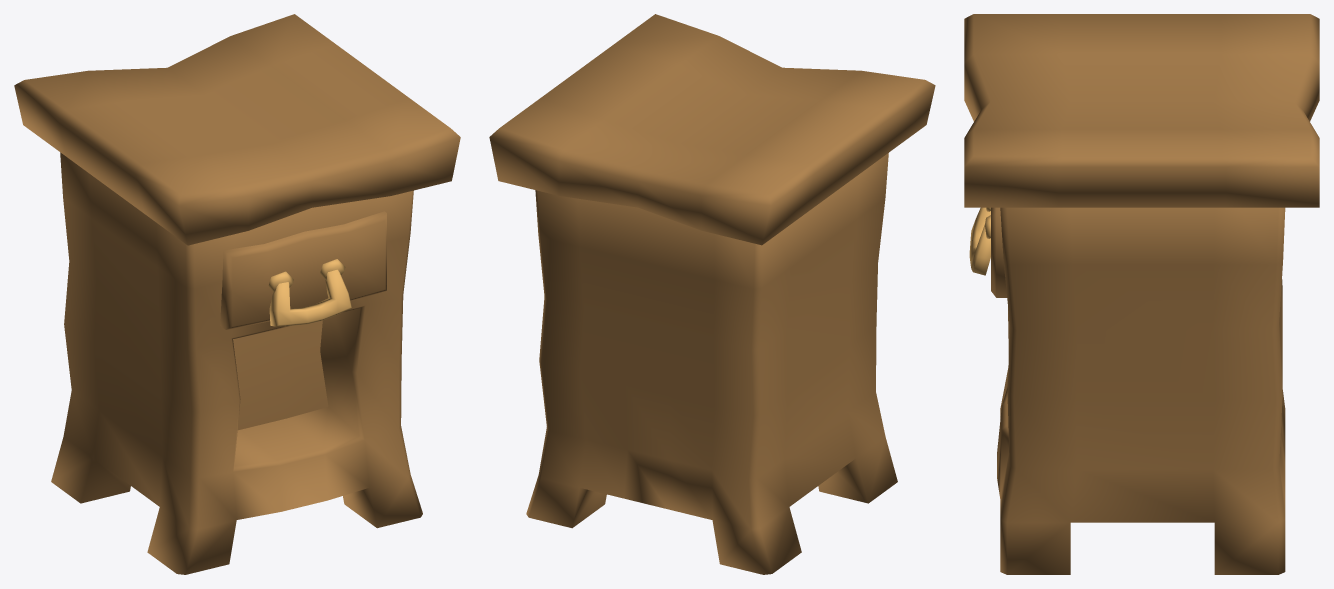
The model's file is props_bedsideTable.fbx.
The picture shows the model from 3 angles, left to right: view 1: azimuth 30°, elevation 25°; view 2: azimuth 150°, elevation 25°; view 3: azimuth 270°, elevation 25°; orthographic projection. The views are drawn at different scales.
Visible parts, largest first — view 1: bedsideTable; view 2: bedsideTable; view 3: bedsideTable.
Part boxes in pixels (x1=…): bedsideTable: x1=14, y1=14, x2=460, y2=574; bedsideTable: x1=489, y1=14, x2=935, y2=574; bedsideTable: x1=964, y1=14, x2=1319, y2=574.
Size of the model in its own units: 93.71 by 125 by 94.84.
